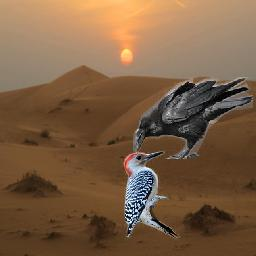Crow: (133, 77, 253, 159)
Woodpecker: (119, 148, 184, 245)
